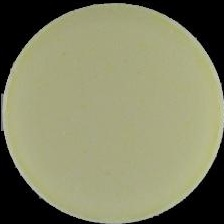63739-387: (0, 0, 224, 224)
